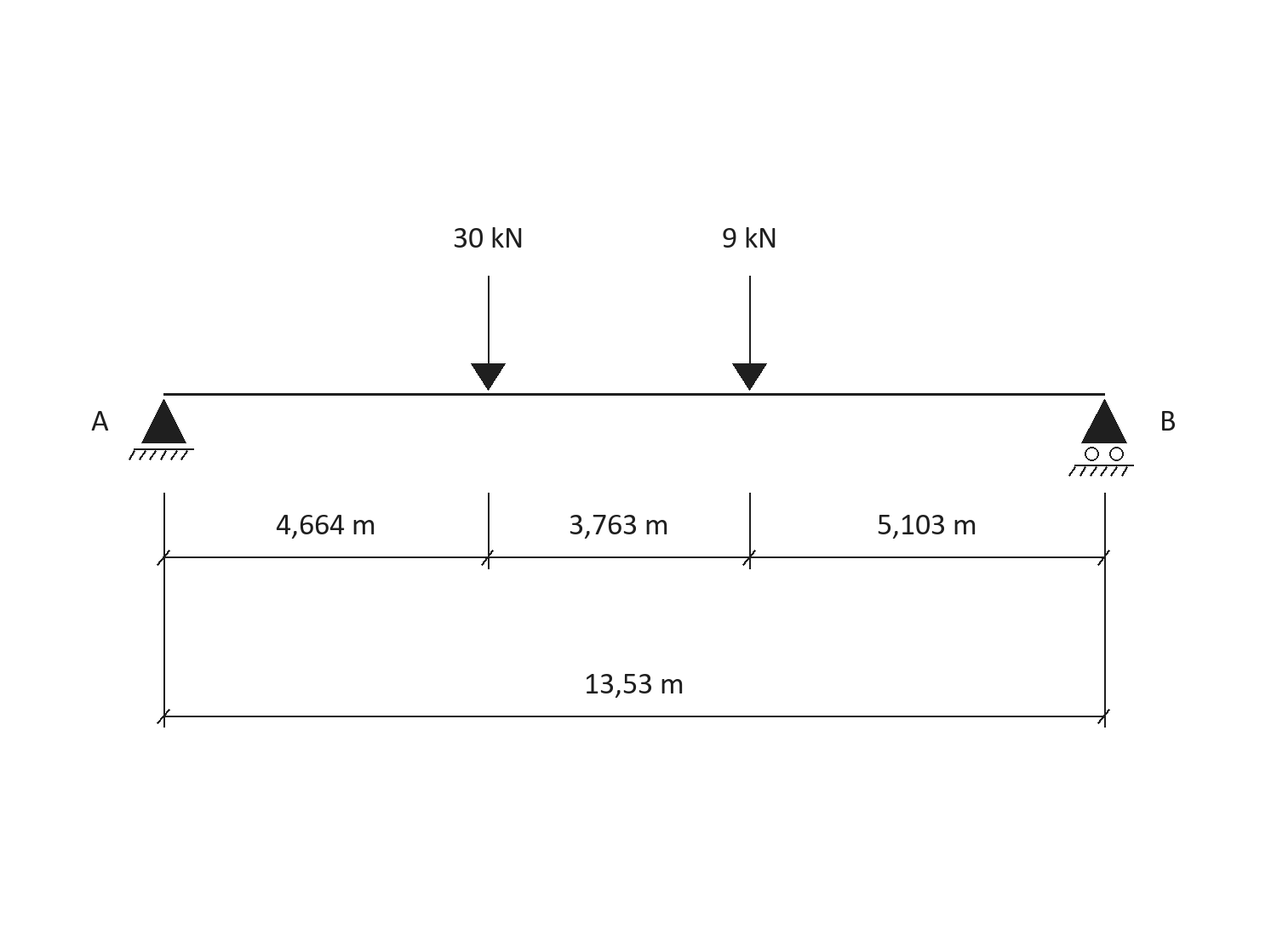pin_support: (129, 399, 194, 460)
point_load: (471, 276, 506, 391), (732, 276, 767, 391)
roller_support: (1068, 399, 1134, 477)
